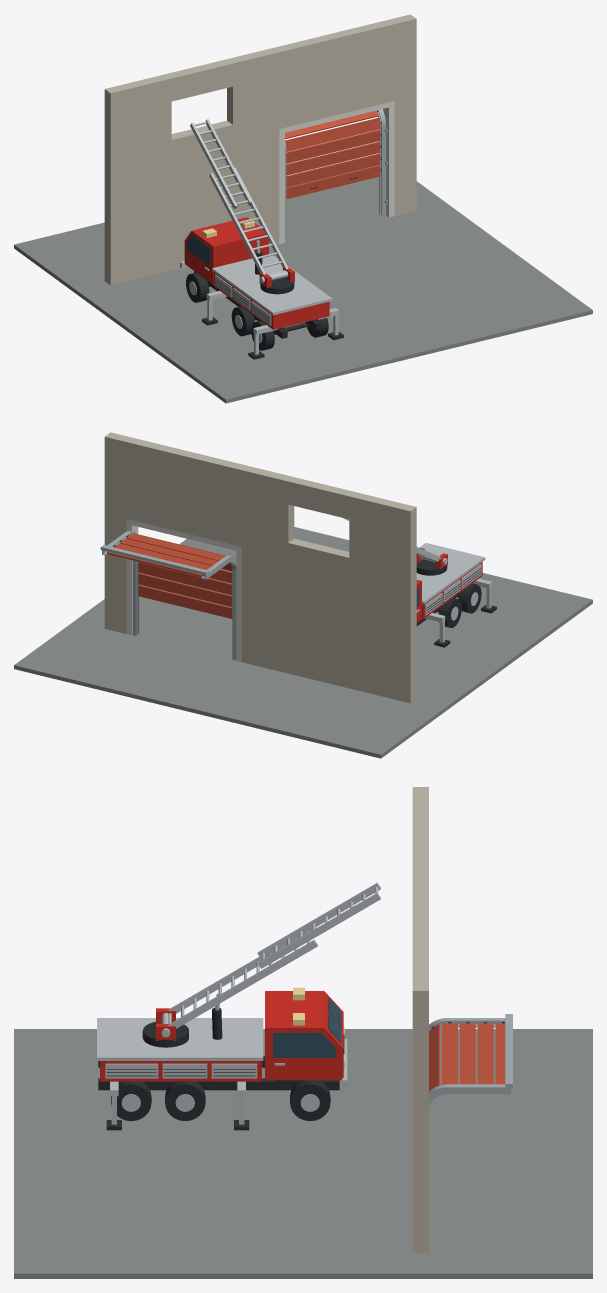
3 views of the same model, one above another, from view 1: azimuth 30°, elevation 25°; view 2: azimuth 150°, elevation 25°; view 3: azimuth 270°, elevation 25° (orthographic). The views are drawn at different scales.
Visible parts, largest first — view 1: SCENE_ONLY__PostalSortingGround, truck__RearDeck, truck__NewCabExterior, door__ClosedDoorSection04, truck__RearCompartmentBody, door__ClosedDoorSection02, door__ClosedDoorSection01, door__ClosedDoorSection03, door__ClosedDoorSection00, door__GroundedJamb1, door__WholeCurvedCTrack1, door__GroundedJamb-1 (+4 smaller); view 2: SCENE_ONLY__PostalSortingGround, truck__RearDeck, door__ClosedDoorSection00, door__ClosedDoorSection01, door__ClosedDoorSection02, door__WholeCurvedCTrack-1, door__WholeCurvedCTrack1, door__GroundedJamb-1, door__RearTrackCrossTie, door__ClosedDoorSection07, door__GroundedJamb1, door__ClosedDoorSection06 (+3 smaller); view 3: SCENE_ONLY__PostalSortingGround, truck__RearDeck, truck__NewCabExterior, truck__CabOpaqueSideWindow-1, truck__RearCompartmentBody, truck__ChassisRail-0.56, truck__OuterContinuousRail-1, truck__RoadTire0_-1, truck__InnerContinuousRail-1, truck__RoadTire1_-1, door__ClosedDoorSection07, door__ClosedDoorSection08 (+11 smaller).
Boxes of the visible parts, x1=… form: SCENE_ONLY__PostalSortingGround: x1=14, y1=14, x2=592, y2=403; truck__RearDeck: x1=212, y1=255, x2=332, y2=315; truck__NewCabExterior: x1=184, y1=217, x2=268, y2=284; door__ClosedDoorSection04: x1=285, y1=117, x2=380, y2=151; truck__RearCompartmentBody: x1=214, y1=272, x2=329, y2=329; door__ClosedDoorSection02: x1=286, y1=141, x2=380, y2=175; door__ClosedDoorSection01: x1=286, y1=153, x2=380, y2=187; door__ClosedDoorSection03: x1=286, y1=129, x2=380, y2=163; door__ClosedDoorSection00: x1=286, y1=165, x2=380, y2=199; door__GroundedJamb1: x1=383, y1=101, x2=394, y2=217; door__WholeCurvedCTrack1: x1=377, y1=109, x2=386, y2=216; door__GroundedJamb-1: x1=279, y1=128, x2=284, y2=244; SCENE_ONLY__PostalSortingGround: x1=14, y1=432, x2=592, y2=758; truck__RearDeck: x1=416, y1=543, x2=485, y2=604; door__ClosedDoorSection00: x1=138, y1=585, x2=232, y2=618; door__ClosedDoorSection01: x1=138, y1=573, x2=232, y2=606; door__ClosedDoorSection02: x1=138, y1=562, x2=232, y2=595; door__WholeCurvedCTrack-1: x1=201, y1=555, x2=236, y2=660; door__WholeCurvedCTrack1: x1=102, y1=531, x2=139, y2=636; door__GroundedJamb-1: x1=236, y1=545, x2=241, y2=661; door__RearTrackCrossTie: x1=100, y1=545, x2=208, y2=575; door__ClosedDoorSection07: x1=120, y1=538, x2=218, y2=565; door__GroundedJamb1: x1=126, y1=519, x2=138, y2=635; door__ClosedDoorSection06: x1=126, y1=533, x2=224, y2=560; SCENE_ONLY__PostalSortingGround: x1=14, y1=787, x2=592, y2=1278; truck__RearDeck: x1=97, y1=1018, x2=263, y2=1060; truck__NewCabExterior: x1=265, y1=991, x2=343, y2=1080; truck__CabOpaqueSideWindow-1: x1=273, y1=1032, x2=336, y2=1057; truck__RearCompartmentBody: x1=100, y1=1061, x2=261, y2=1081; truck__ChassisRail-0.56: x1=98, y1=1078, x2=339, y2=1090; truck__OuterContinuousRail-1: x1=168, y1=940, x2=317, y2=1028; truck__RoadTire0_-1: x1=290, y1=1080, x2=330, y2=1120; truck__InnerContinuousRail-1: x1=257, y1=892, x2=380, y2=968; truck__RoadTire1_-1: x1=165, y1=1081, x2=205, y2=1120; door__ClosedDoorSection07: x1=459, y1=1023, x2=475, y2=1084; door__ClosedDoorSection08: x1=477, y1=1023, x2=493, y2=1084.
Size of the model in its own units: 12 by 6.12 by 12.
